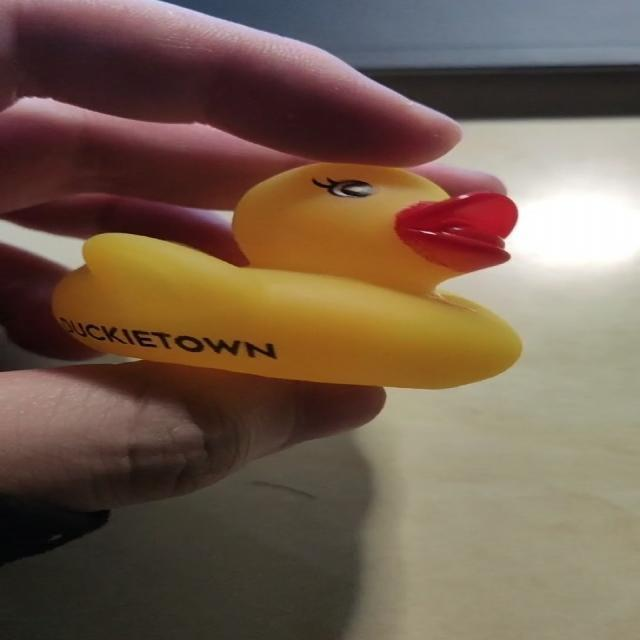rubber-duck: (52, 162, 519, 386)
